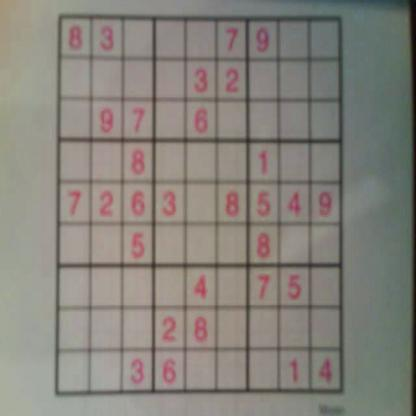sudoku: (52, 9, 346, 398)
